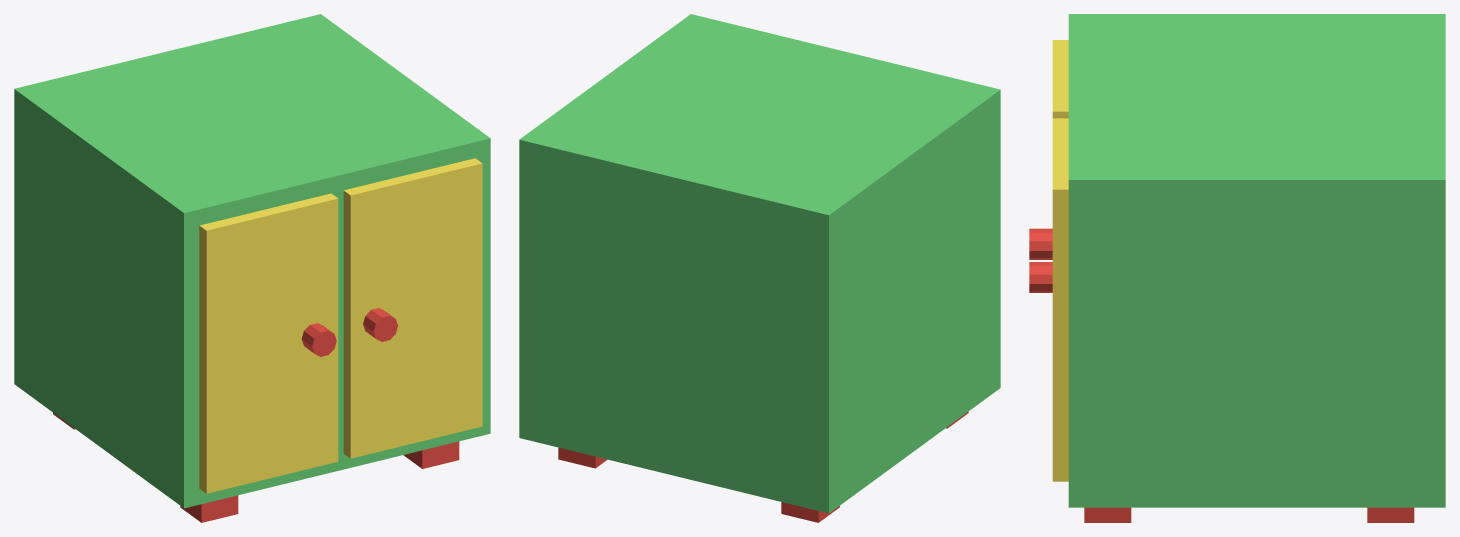
Rendered from ToyCabinet.fbx.
3 renders of one model, left to right at view 1: azimuth 30°, elevation 25°; view 2: azimuth 150°, elevation 25°; view 3: azimuth 270°, elevation 25°, orthographic. The views are drawn at different scales.
Parts seen in each view (by area): view 1: ToyCabinet; view 2: ToyCabinet; view 3: ToyCabinet.
Boxes of the visible parts, bbox=[...] form: ToyCabinet: bbox=[14, 14, 490, 522]; ToyCabinet: bbox=[519, 14, 1000, 522]; ToyCabinet: bbox=[1029, 14, 1445, 522].
Size of the model in its own units: 1 by 1 by 1.06.
